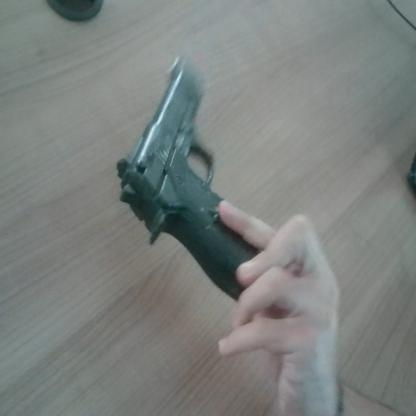handgun: (101, 0, 303, 309)
